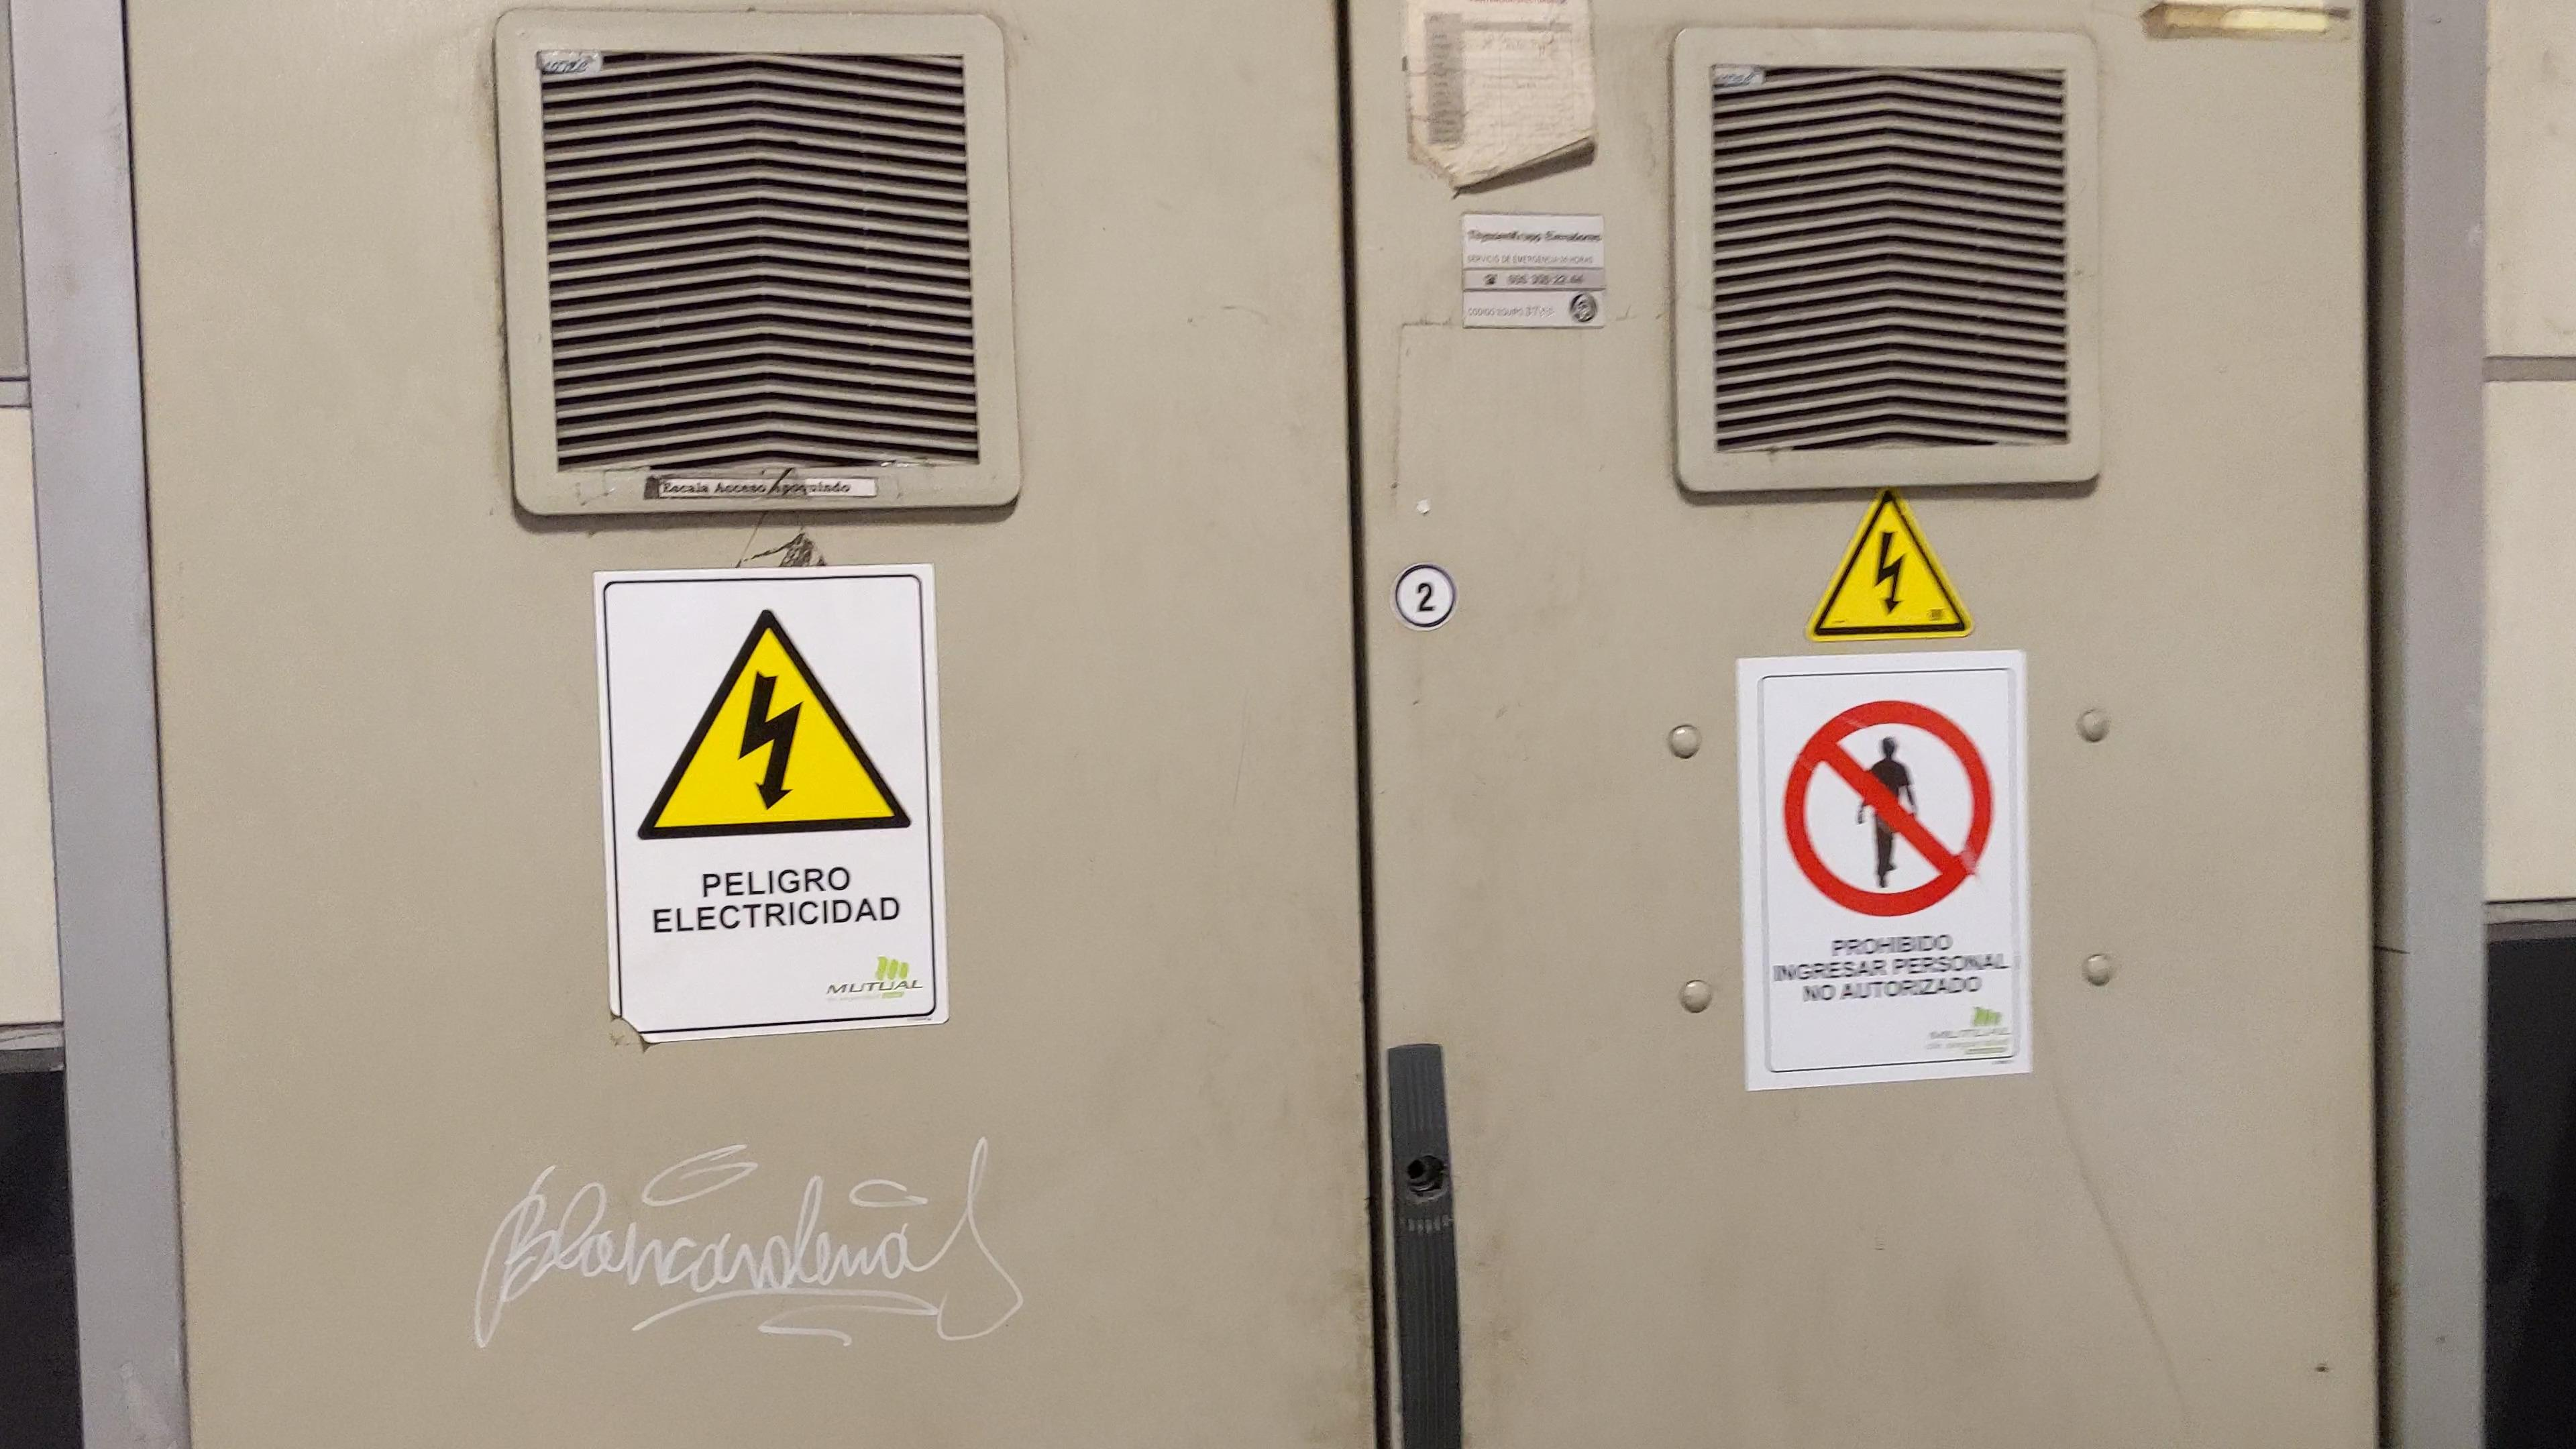danger-electricity: (635, 602, 916, 842), (1805, 494, 1974, 639)
